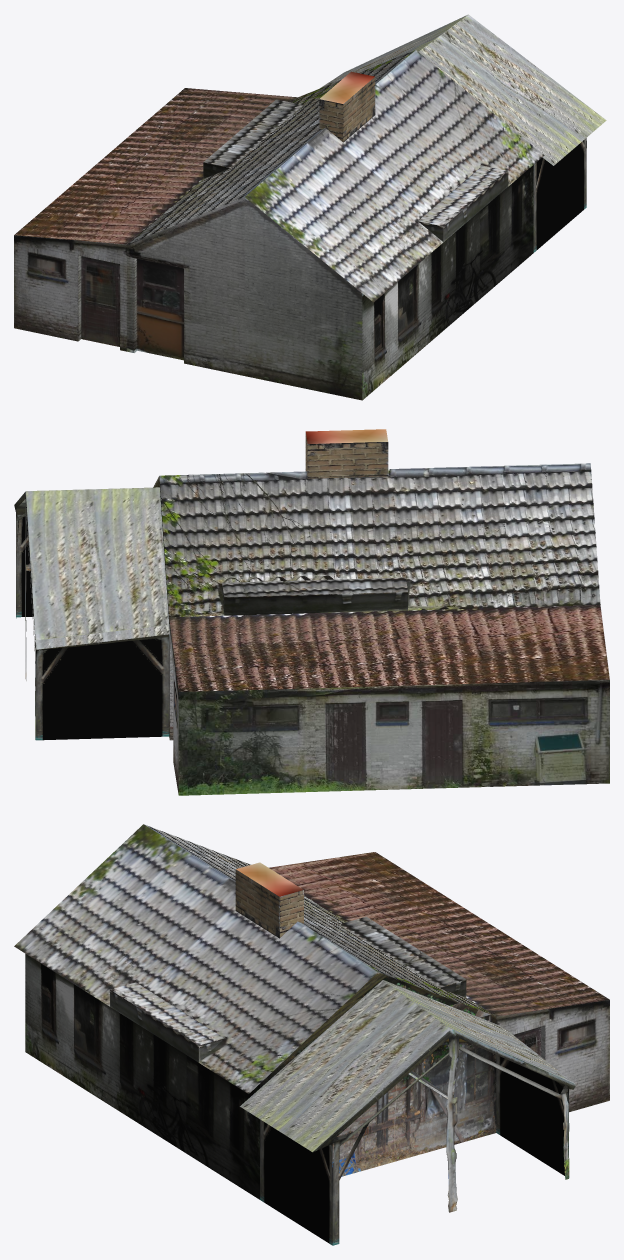
Rendered from Kolibe.fbx.
3 views of the same model, one above another, from view 1: azimuth 30°, elevation 25°; view 2: azimuth 150°, elevation 25°; view 3: azimuth 270°, elevation 25° (orthographic). The views are drawn at different scales.
Parts seen in each view (by area): view 1: Model; view 2: Model; view 3: Model.
Boxes of the visible parts, bbox=[...] form: Model: bbox=[14, 14, 606, 400]; Model: bbox=[14, 429, 609, 795]; Model: bbox=[14, 824, 609, 1245].
Size of the model in its own units: 15.79 by 5.51 by 13.27.
